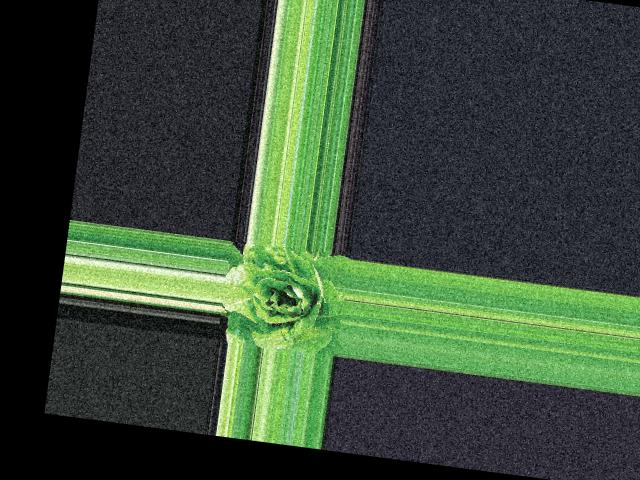lettuce: (222, 239, 348, 353)
